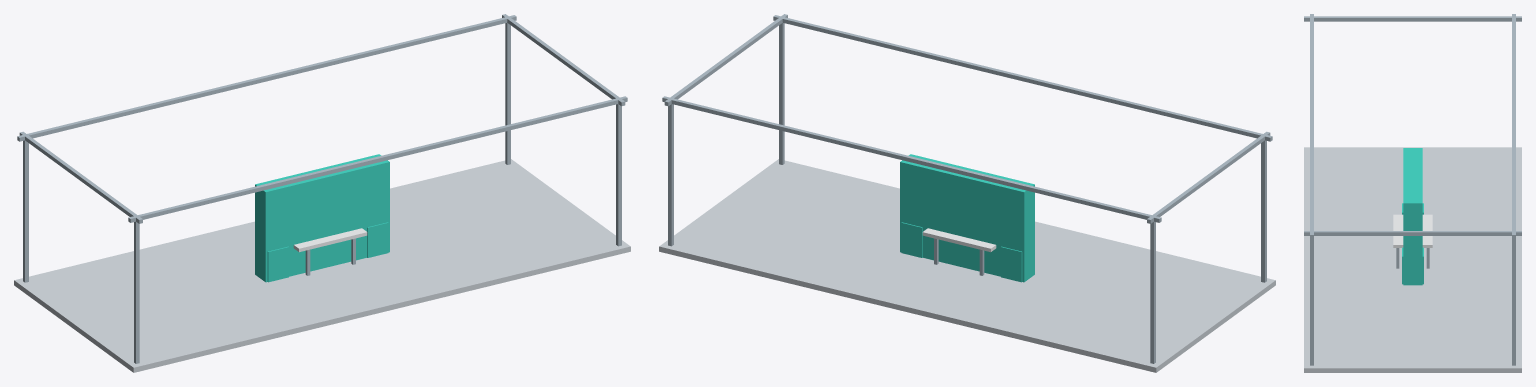
The picture shows the model from 3 angles, left to right: view 1: azimuth 30°, elevation 25°; view 2: azimuth 150°, elevation 25°; view 3: azimuth 270°, elevation 25°; orthographic projection. The views are drawn at different scales.
Visible parts, largest first — view 1: Exhibition Booth Concept; view 2: Exhibition Booth Concept; view 3: Exhibition Booth Concept.
Boxes of the visible parts, x1,y1,x2,y2 form: Exhibition Booth Concept: [14, 14, 630, 372]; Exhibition Booth Concept: [659, 14, 1275, 372]; Exhibition Booth Concept: [1304, 14, 1521, 372].
Size of the model in its own units: 12 by 3.49 by 5.
